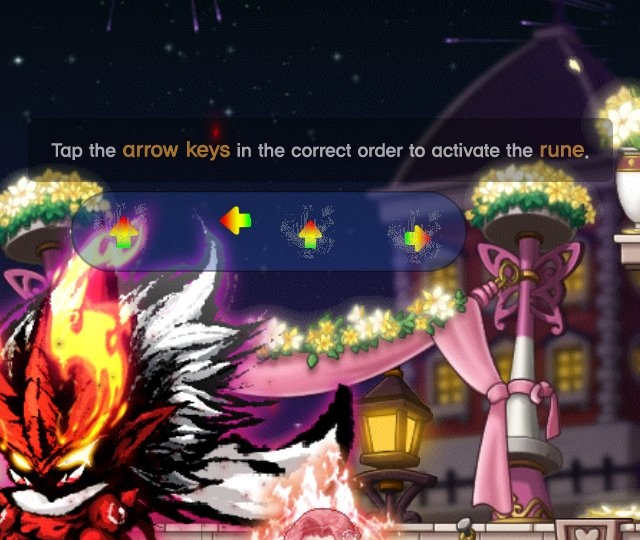left: (214, 201, 262, 244)
right: (400, 218, 437, 259)
up: (105, 210, 140, 252), (292, 214, 328, 254)
